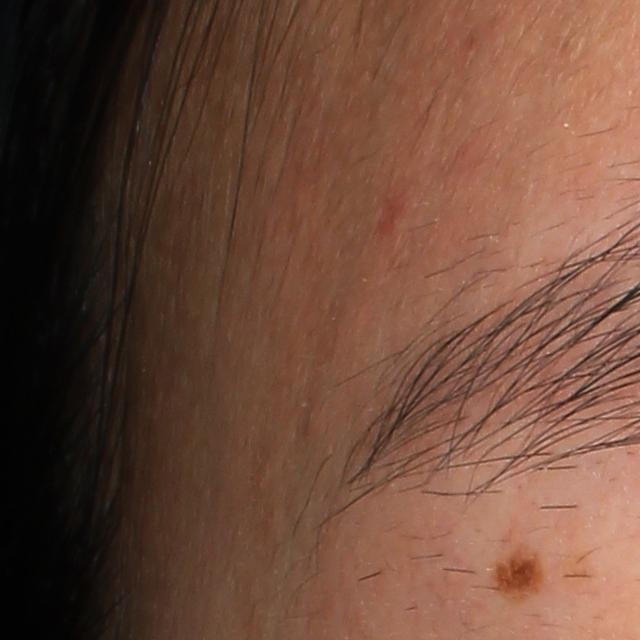nevus: (493, 538, 548, 604)
